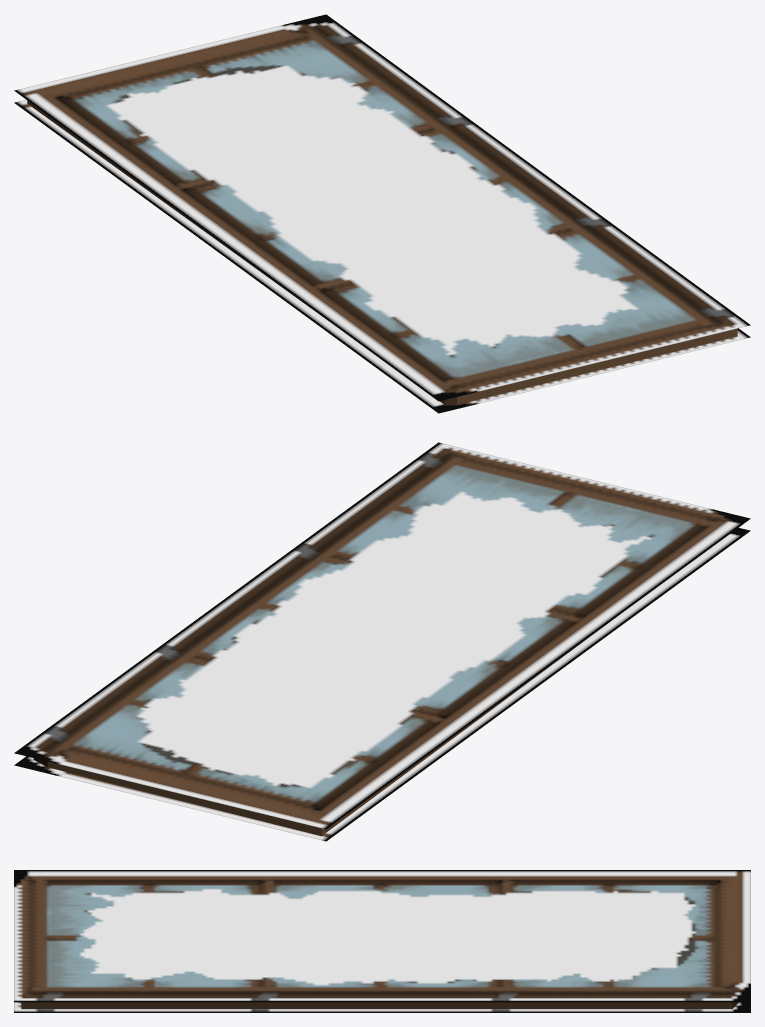
File: pz_native_fixtures_windows_wood_71_frame.obj
3 renders of one model, top to bottom at view 1: azimuth 30°, elevation 25°; view 2: azimuth 150°, elevation 25°; view 3: azimuth 270°, elevation 25°, orthographic. The views are drawn at different scales.
Visible parts, largest first — view 1: pz_native_fixtures_windows_wood_71_frame; view 2: pz_native_fixtures_windows_wood_71_frame; view 3: pz_native_fixtures_windows_wood_71_frame.
Boxes of the visible parts, left/top/right/bottom form: pz_native_fixtures_windows_wood_71_frame: left=14, top=14, right=750, bottom=413; pz_native_fixtures_windows_wood_71_frame: left=14, top=442, right=750, bottom=841; pz_native_fixtures_windows_wood_71_frame: left=14, top=870, right=750, bottom=1012.
Size of the model in its own units: 1.08 by 0.04 by 2.54.
Materials: 1 (1 with a texture image).
